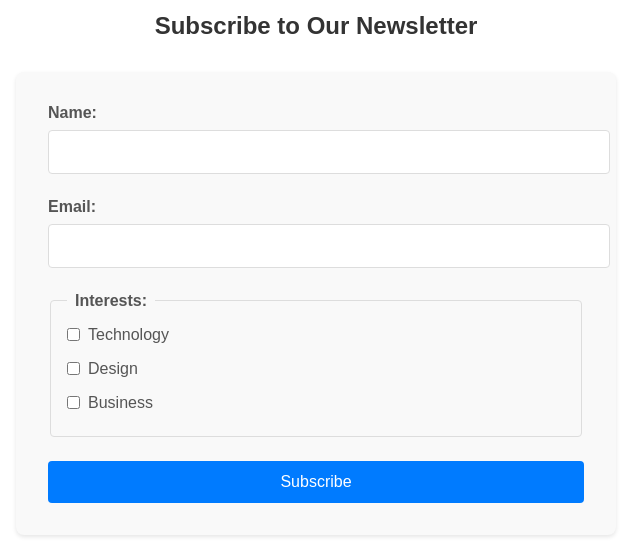
Test: includes selected interests in success message
// Fill out the form with specific interests
Type "Bob Wilson" into the field labelled "Name:" at (329, 152), box [48,130,610,174]
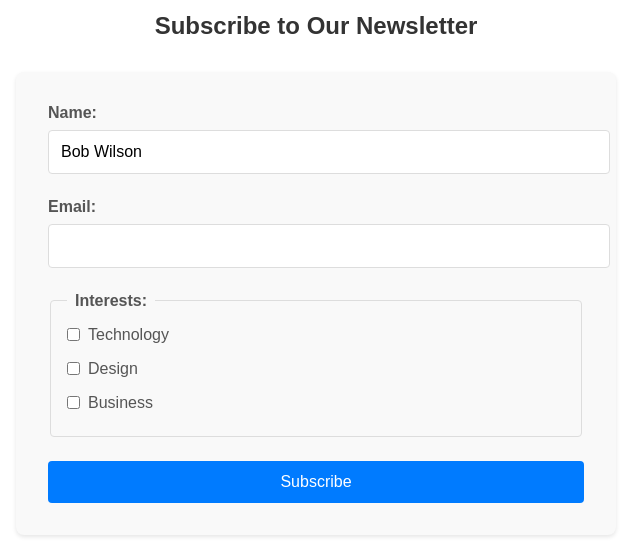
Type "bob@example.com" into the field labelled "Email:" at (329, 246), box [48,224,610,268]
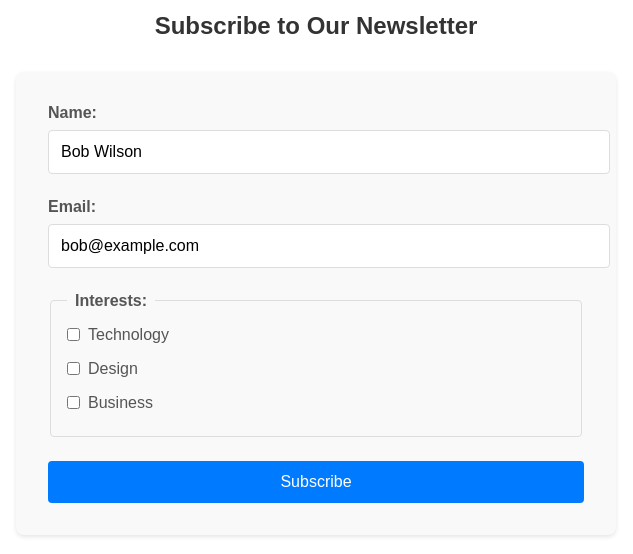
Click the checkbox labelled "Design" at (74, 369), box [67,362,80,375]
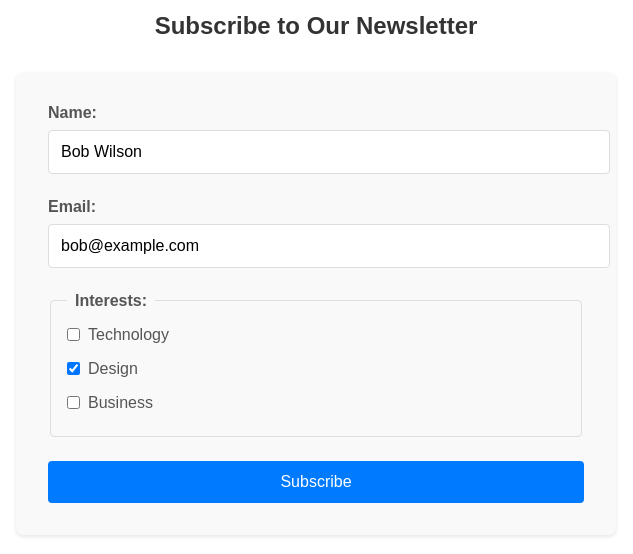
Click the checkbox labelled "Business" at (74, 403), box [67,396,80,409]
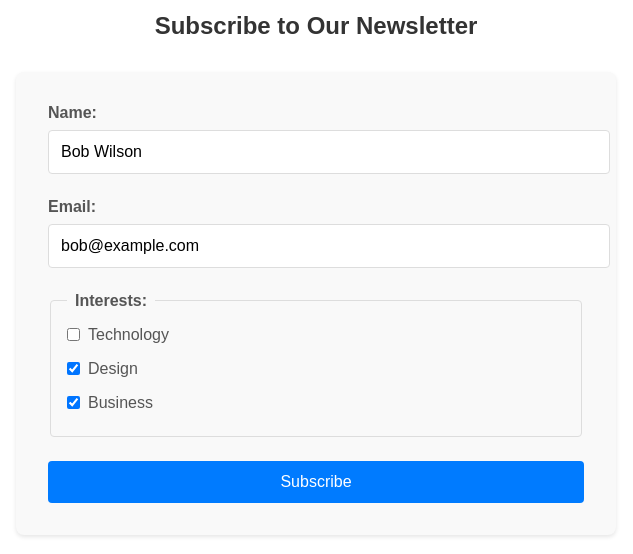
// Submit the form
Click the button "Subscribe" at (316, 482), box [48,461,584,503]
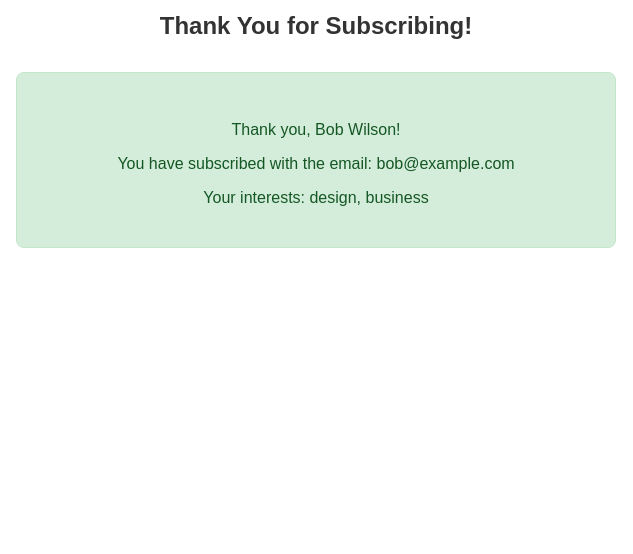
Expected: the text "Your interests: design, business" is shown, [203,189,429,206]
